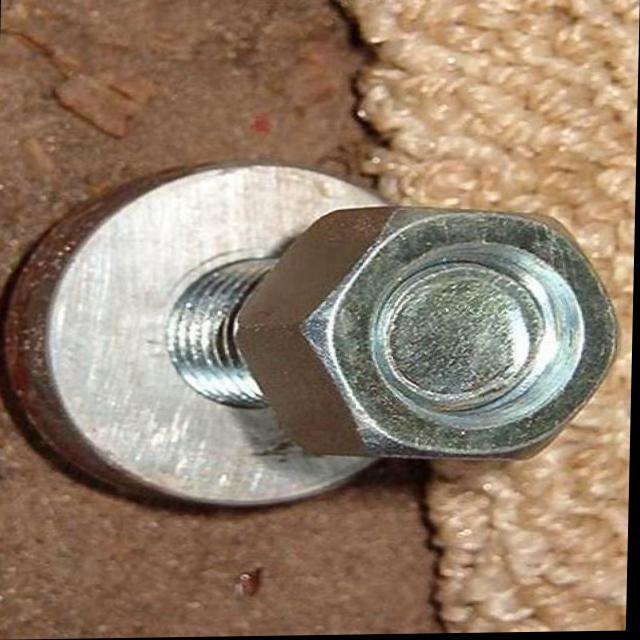Loose bolt: (163, 207, 628, 474)
Regular bolt: (230, 203, 627, 468)
